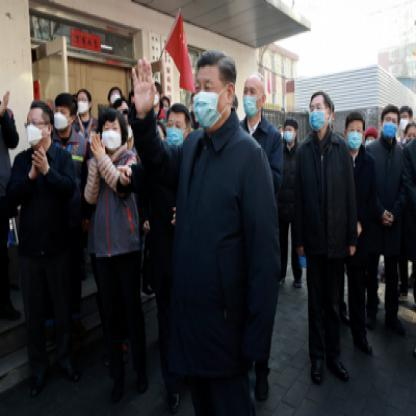with_mask: (193, 75, 228, 129), (242, 81, 260, 117), (101, 120, 121, 150), (164, 115, 184, 145), (25, 116, 44, 147), (308, 100, 325, 131), (53, 105, 69, 130), (383, 112, 397, 139), (347, 125, 362, 150), (76, 93, 88, 114), (283, 125, 295, 143), (110, 90, 122, 106), (399, 110, 408, 131)
